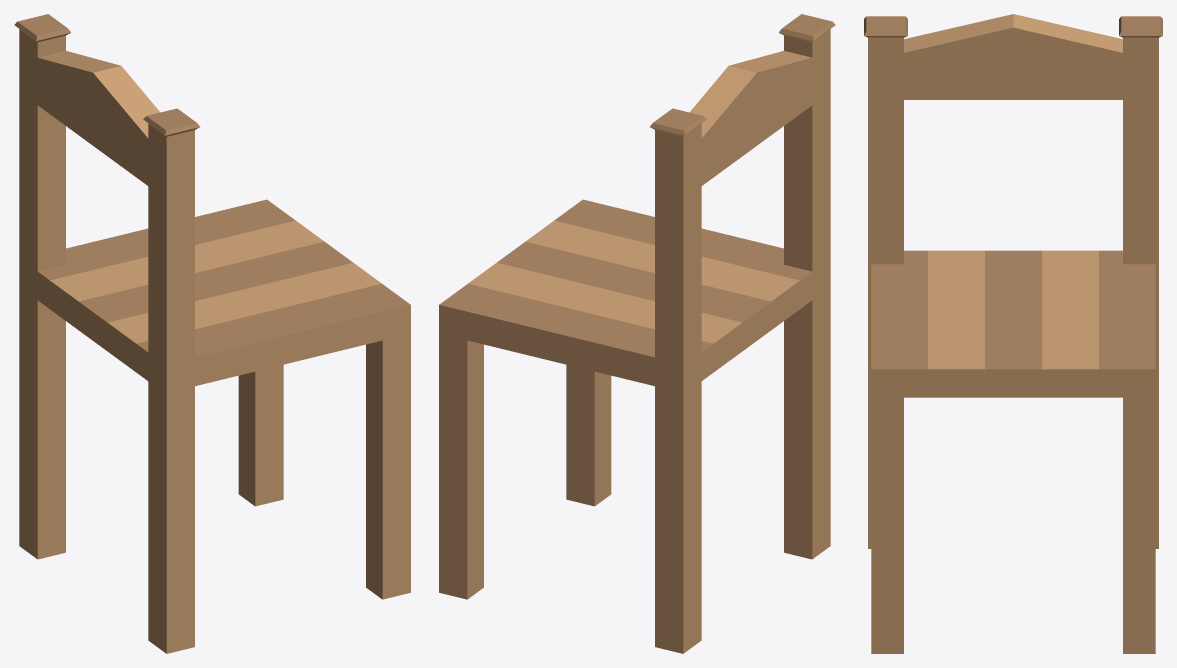
Rendered from chair01.fbx.
3 renders of one model, left to right at view 1: azimuth 30°, elevation 25°; view 2: azimuth 150°, elevation 25°; view 3: azimuth 270°, elevation 25°, orthographic.
Parts seen in each view (by area): view 1: chair01_color01; view 2: chair01_color01; view 3: chair01_color01.
Part boxes in pixels (<box>): chair01_color01: <box>14,14,410,653</box>; chair01_color01: <box>439,14,835,653</box>; chair01_color01: <box>864,14,1162,653</box>.
Size of the model in its own units: 54.83 by 111 by 57.61.
